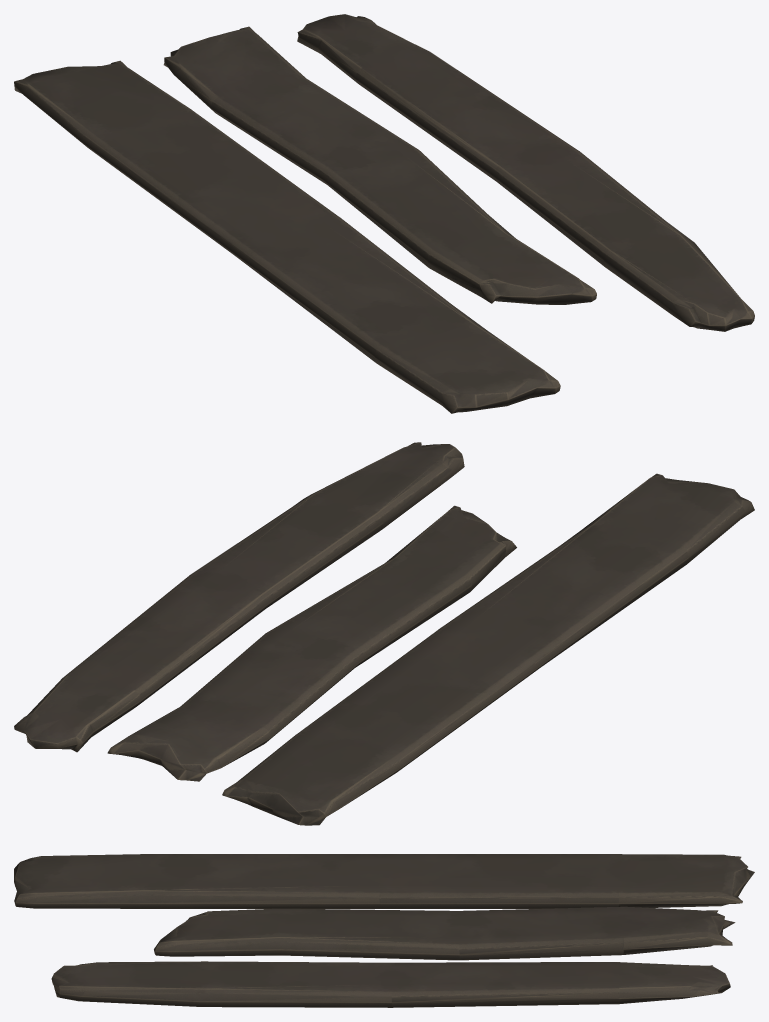
Rendered from woodenBoards.fbx.
3 views of the same model, one above another, from view 1: azimuth 30°, elevation 25°; view 2: azimuth 150°, elevation 25°; view 3: azimuth 270°, elevation 25° (orthographic). The views are drawn at different scales.
Visible parts, largest first — view 1: woodenBoard1, woodenBoard3, woodenBoard2; view 2: woodenBoard1, woodenBoard3, woodenBoard2; view 3: woodenBoard1, woodenBoard3, woodenBoard2.
Boxes of the visible parts, bbox=[...] form: woodenBoard1: bbox=[14, 60, 560, 413]; woodenBoard3: bbox=[297, 14, 754, 331]; woodenBoard2: bbox=[163, 26, 596, 304]; woodenBoard1: bbox=[222, 473, 754, 825]; woodenBoard3: bbox=[14, 442, 464, 752]; woodenBoard2: bbox=[107, 505, 516, 781]; woodenBoard1: bbox=[14, 854, 754, 908]; woodenBoard3: bbox=[51, 961, 730, 1007]; woodenBoard2: bbox=[154, 906, 735, 960].
Size of the model in its own units: 91.02 by 8.83 by 199.
Materials: 1 (1 with a texture image).
